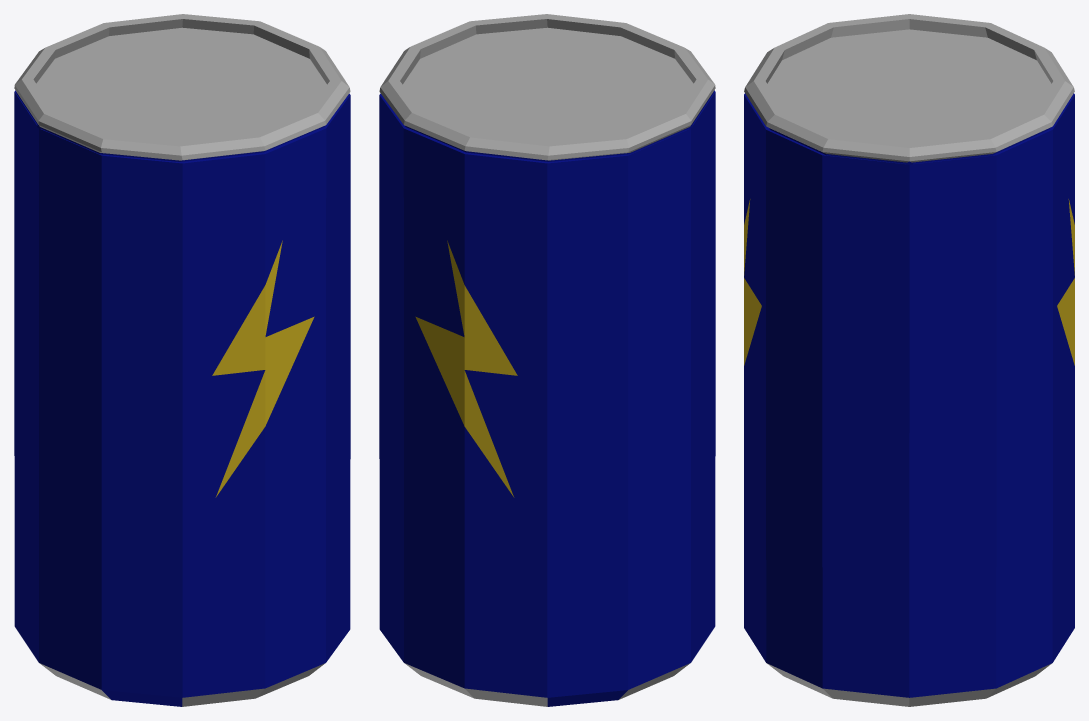
The model's file is REddbul.fbx.
3 renders of one model, left to right at view 1: azimuth 30°, elevation 25°; view 2: azimuth 150°, elevation 25°; view 3: azimuth 270°, elevation 25°, orthographic.
Parts seen in each view (by area): view 1: Reddbul; view 2: Reddbul; view 3: Reddbul.
Part boxes in pixels (x1,y1,x2,y2): Reddbul: (14, 14, 350, 706); Reddbul: (379, 14, 715, 706); Reddbul: (744, 14, 1074, 706).
Bounding box in the file's own units: 200 × 376 × 200.
